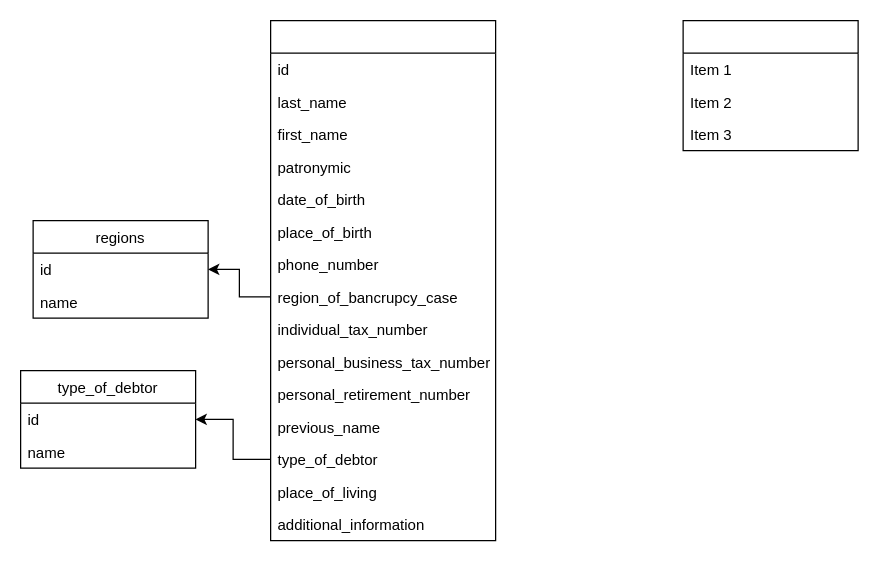
The diagram is 879 pixels wide and 561 high, and some of its shapes have lost their labels. The shapes that lost their labels are listed below. From the top down, each one's box as (x1, y1, x2, y2) in pixels, then its label:
(682, 19, 858, 151): debtors_orgaisations
(269, 19, 496, 541): debtors_individuals
